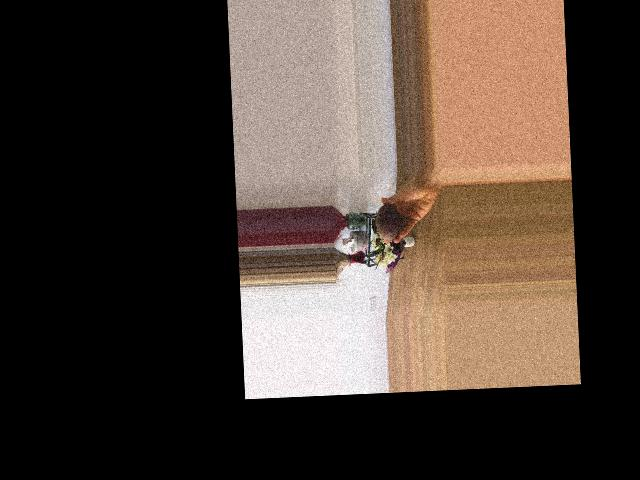beet: (371, 203, 421, 241)
